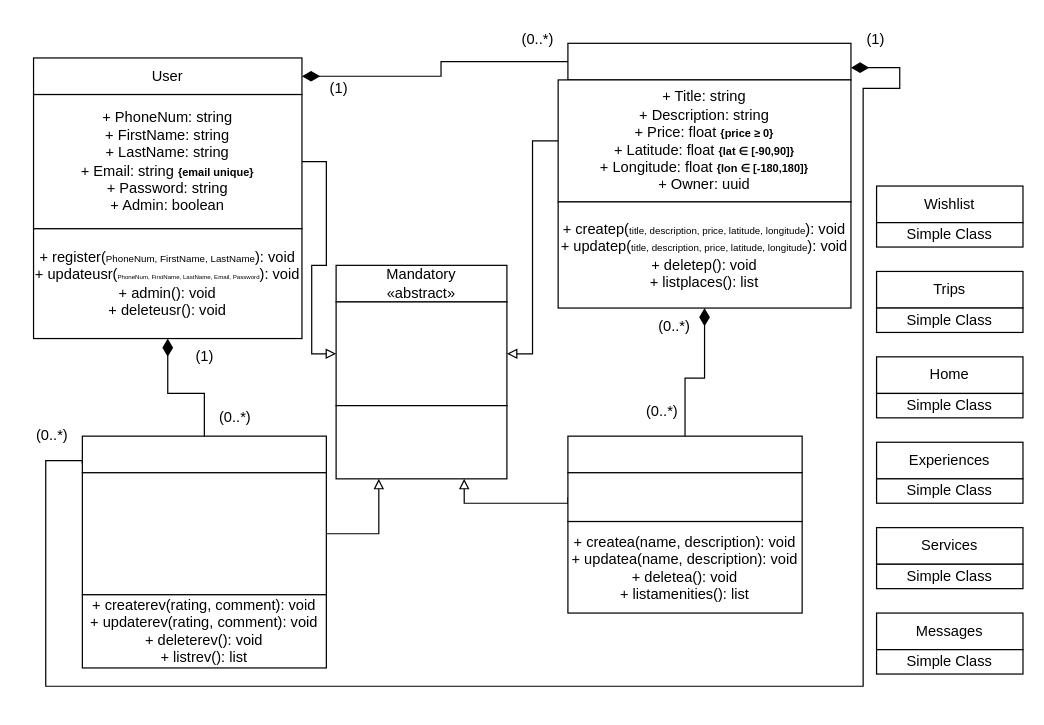
This 1044x725 diagram has some shape labels left out. Each missing label, with the centre of its shape:
+ ID: UUID4 + CreatedAt: DateTime + UpdatedAt: DateTime: [421,353]
+ Name: string + Description: string: [684,497]
+ Place: uuid + User: uuid + Rating: int {rating ∈ 1..5} + Comment: string: [203,533]
Amenity: [684,454]
Place: [709,61]
Review: [203,454]
